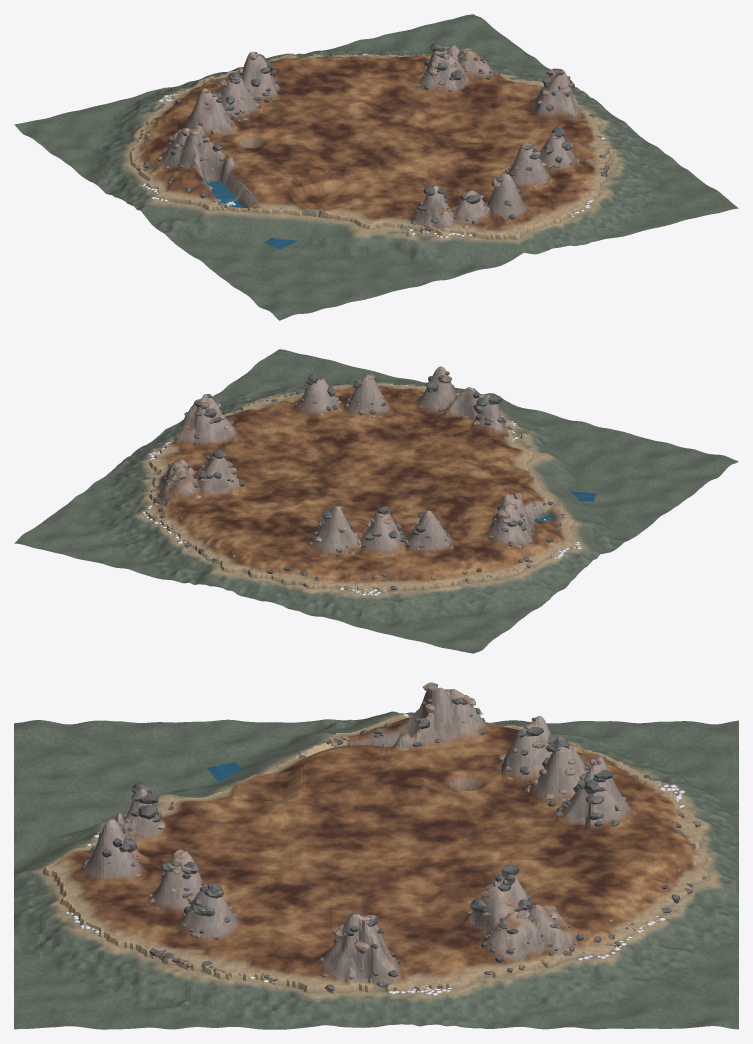
File: Terrain_P2.fbx
3 renders of one model, top to bottom at view 1: azimuth 30°, elevation 25°; view 2: azimuth 150°, elevation 25°; view 3: azimuth 270°, elevation 25°, orthographic. The views are drawn at different scales.
Parts seen in each view (by area): view 1: Ground, River, Surf; view 2: Ground, Surf; view 3: Ground, Surf.
Part boxes in pixels (x1=…): Ground: x1=14, y1=14, x2=738, y2=320; River: x1=207, y1=181, x2=297, y2=249; Surf: x1=141, y1=53, x2=604, y2=237; Ground: x1=14, y1=349, x2=738, y2=653; Surf: x1=141, y1=383, x2=581, y2=595; Ground: x1=14, y1=687, x2=738, y2=1029; Surf: x1=65, y1=713, x2=685, y2=995.
Size of what is drawn, in the model's own units: 64000 by 9000 by 64000.
